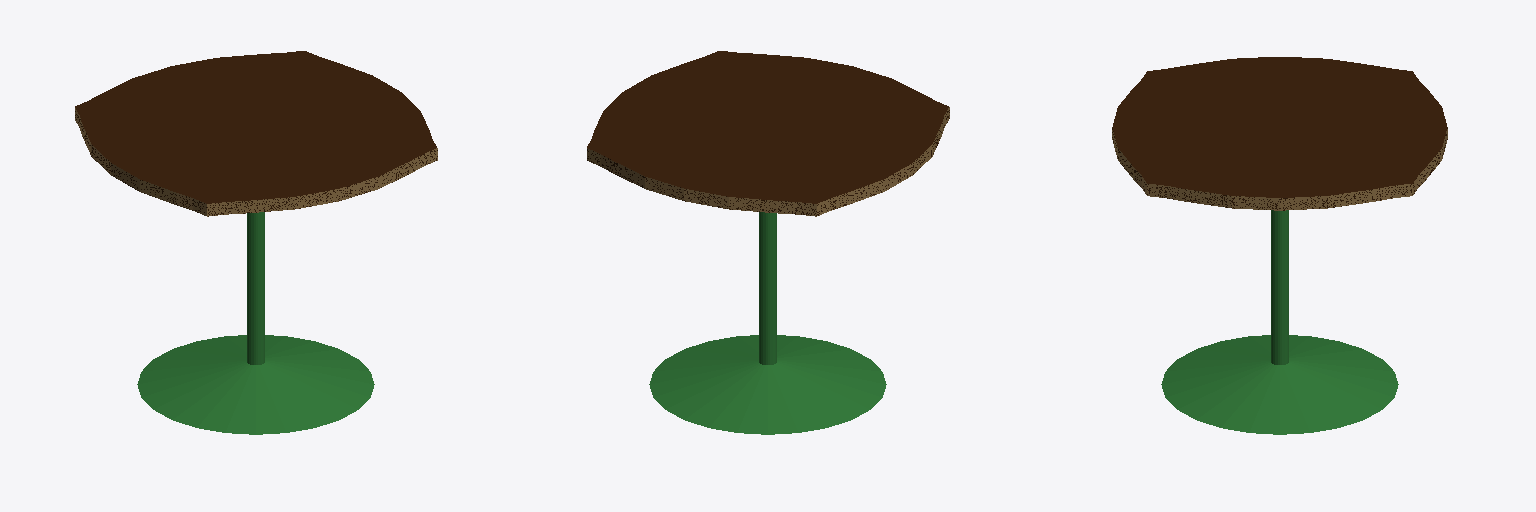
3 views of the same model, side by side, from view 1: azimuth 30°, elevation 25°; view 2: azimuth 150°, elevation 25°; view 3: azimuth 270°, elevation 25° (orthographic).
Visible parts, largest first — view 1: Mesh1 Top_Flower Model, Mesh3 Base_Round Model; view 2: Mesh1 Top_Flower Model, Mesh3 Base_Round Model; view 3: Mesh1 Top_Flower Model, Mesh3 Base_Round Model.
Part boxes in pixels (x1,y1,x2,y2): Mesh1 Top_Flower Model: (75,51,437,216); Mesh3 Base_Round Model: (137,212,374,434); Mesh1 Top_Flower Model: (587,51,949,216); Mesh3 Base_Round Model: (649,212,886,434); Mesh1 Top_Flower Model: (1112,57,1447,210); Mesh3 Base_Round Model: (1161,210,1398,434).
Bounding box in the file's own units: 36 × 30.5 × 36.